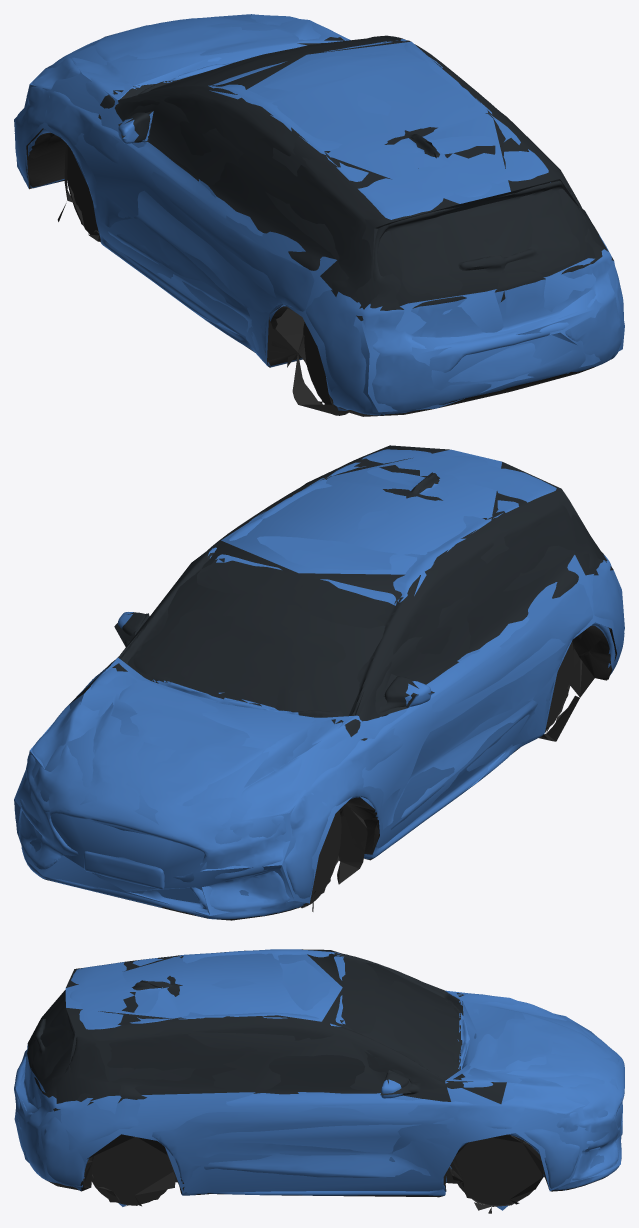
The model's file is ford-focus.glb.
3 views of the same model, one above another, from view 1: azimuth 30°, elevation 25°; view 2: azimuth 150°, elevation 25°; view 3: azimuth 270°, elevation 25° (orthographic). The views are drawn at different scales.
Parts seen in each view (by area): view 1: body, far; view 2: body, far; view 3: body, far.
Part boxes in pixels (x1,y1,x2,y2): body: (14,14,623,416); far: (14,14,624,412); body: (14,449,624,920); far: (14,445,624,915); body: (14,949,624,1213); far: (14,949,621,1210).
Bounding box in the file's own units: 2.13 × 1.6 × 4.64.
